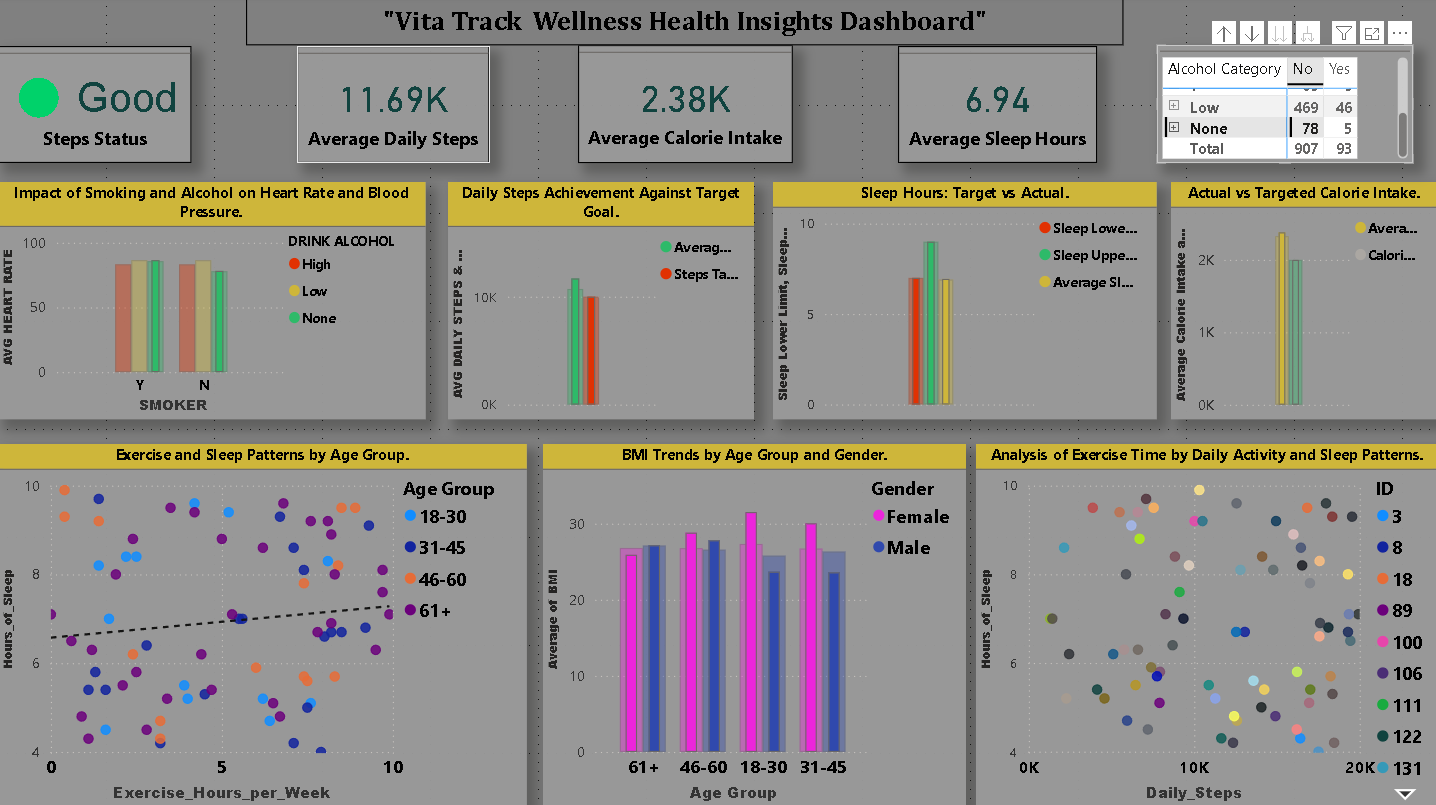

The page's visual inventory and layout, read from the dashboard file:
{"tool":"powerbi","page":{"name":"dashboard","canvas":[1280,720],"ordinal":0},"visuals":[{"type":"card","fields":{"Values":["health_activity_data.Measure"]},"box":[266,43.4,171.1,103.7],"z":0},{"type":"card","fields":{"Values":["health_activity_data.Average Sleep Hours"]},"box":[799.8,43.4,177.3,103.7],"z":1000},{"type":"card","fields":{"Values":["health_activity_data.Average Calorie Intake"]},"box":[515.2,42.6,190.6,104.6],"z":2000},{"type":"card","fields":{"Values":["health_activity_data.Steps Status"]},"box":[0,43.4,172,103.7],"z":3000},{"type":"lineClusteredColumnComboChart","title":"Daily Steps Achievement Against Target Goal.","fields":{"Y":["health_activity_data.Average Daily Steps","health_activity_data.Steps Target"]},"box":[399.9,164,272.2,211],"z":4000},{"type":"lineClusteredColumnComboChart","title":"Sleep Hours: Target vs Actual.","fields":{"Y":["health_activity_data.Sleep Lower Limit","health_activity_data.Sleep Upper Limit","health_activity_data.Average Sleep Hours"]},"box":[689,164,341.4,211],"z":5000},{"type":"clusteredColumnChart","title":"Actual vs Targeted Calorie Intake.","fields":{"Y":["health_activity_data.Average Calorie Intake","health_activity_data.Calories Target"]},"box":[1042.8,164,236.7,211],"z":6000},{"type":"pivotTable","fields":{"Rows":["health_activity_data.Alcohol Category","health_activity_data.Smoker(1/0)","health_activity_data.BMI Category","health_activity_data.Exercise Category"],"Columns":["health_activity_data.Heart_Disease"],"Values":["CountNonNull(health_activity_data.Heart_Disease)"]},"box":[1030.2,42.7,227.6,104.9],"z":7000},{"type":"scatterChart","title":"Exercise and Sleep Patterns by Age Group.","fields":{"Y":["health_activity_data.Hours_of_Sleep"],"X":["health_activity_data.Exercise_Hours_per_Week"],"Series":["health_activity_data.Age Group"]},"box":[0,397.2,470,322.8],"z":8000},{"type":"lineClusteredColumnComboChart","title":"BMI Trends by Age Group and Gender.","fields":{"Category":["health_activity_data.Age Group"],"Series":["health_activity_data.Gender"],"Y":["Avg(health_activity_data.BMI)"]},"box":[484.1,397.2,376,322.8],"z":9000},{"type":"clusteredColumnChart","title":"Impact of Smoking and Alcohol on Heart Rate and Blood Pressure.","fields":{"Category":["health_activity_data.Smoker(Y/N)"],"Series":["health_activity_data.Alcohol Category"],"Y":["health_activity_data.Avg Heart Rate"]},"box":[0,164,379.5,211],"z":10000},{"type":"scatterChart","title":"Analysis of Exercise Time by Daily Activity and Sleep Patterns.","fields":{"Y":["health_activity_data.Hours_of_Sleep"],"X":["health_activity_data.Daily_Steps"],"Series":["health_activity_data.ID"]},"box":[869,397.2,411.4,322.8],"z":11000},{"type":"textbox","box":[220.8,0,780.3,42.6],"z":12000}]}

Visuals, with their boxes in screenshot pixels (x1, y1, x2, y2), scaled from the page's 1280x720 canvas onto the 1436x805 screenshot:
card - health_activity_data.Measure: {"left": 298, "top": 49, "right": 490, "bottom": 164}
card - health_activity_data.Average Sleep Hours: {"left": 897, "top": 49, "right": 1096, "bottom": 164}
card - health_activity_data.Average Calorie Intake: {"left": 578, "top": 48, "right": 792, "bottom": 165}
card - health_activity_data.Steps Status: {"left": 0, "top": 49, "right": 193, "bottom": 164}
"Daily Steps Achievement Against Target Goal." lineClusteredColumnComboChart: {"left": 449, "top": 183, "right": 754, "bottom": 419}
"Sleep Hours: Target vs Actual." lineClusteredColumnComboChart: {"left": 773, "top": 183, "right": 1156, "bottom": 419}
"Actual vs Targeted Calorie Intake." clusteredColumnChart: {"left": 1170, "top": 183, "right": 1435, "bottom": 419}
pivotTable - health_activity_data.Alcohol Category x health_activity_data.Smoker(1/0): {"left": 1156, "top": 48, "right": 1411, "bottom": 165}
"Exercise and Sleep Patterns by Age Group." scatterChart: {"left": 0, "top": 444, "right": 527, "bottom": 804}
"BMI Trends by Age Group and Gender." lineClusteredColumnComboChart: {"left": 543, "top": 444, "right": 965, "bottom": 804}
"Impact of Smoking and Alcohol on Heart Rate and Blood Pressure." clusteredColumnChart: {"left": 0, "top": 183, "right": 426, "bottom": 419}
"Analysis of Exercise Time by Daily Activity and Sleep Patterns." scatterChart: {"left": 975, "top": 444, "right": 1435, "bottom": 804}
textbox: {"left": 248, "top": 0, "right": 1123, "bottom": 48}
